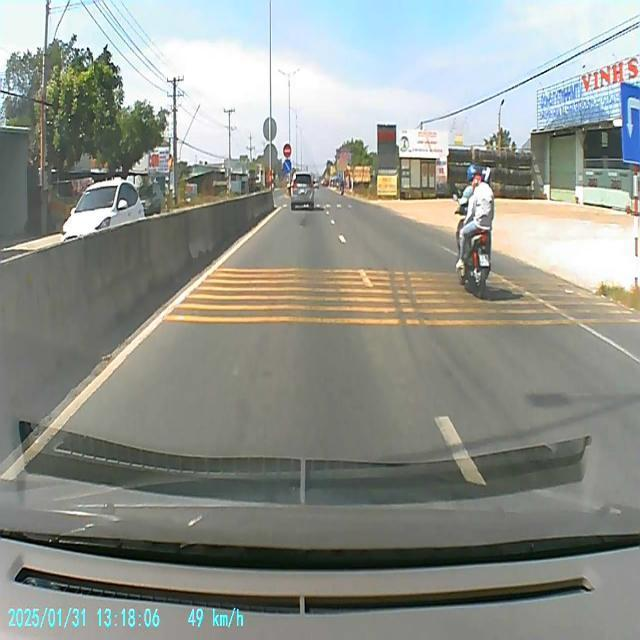207-giao-nhau-voi-duong-khong-uu-tien: (284, 142, 292, 158)
302a-huong-phai-di-vong-chuong-ngai-vat-1: (284, 157, 292, 173)
